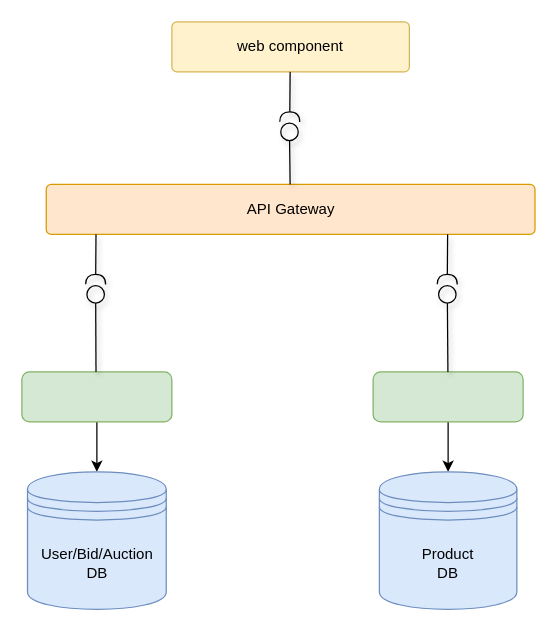
Image size: 558x631. Some labels were removed from this diagram. The centre of each missing label's shape, as x and y in pixels:
"ProductMS" goes at point (447, 396).
"User/BidMS" goes at point (96, 396).
